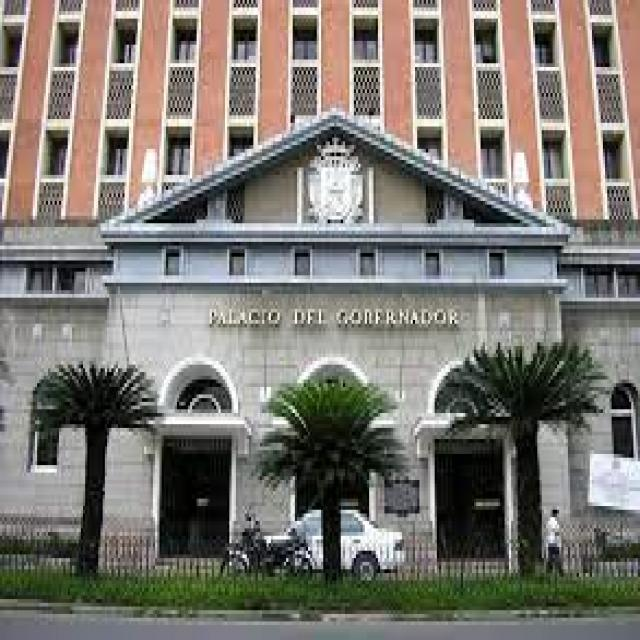Palacio de Gobernador: (1, 0, 640, 607)
